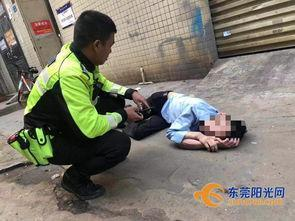Fall-Detected: (121, 82, 254, 154)
